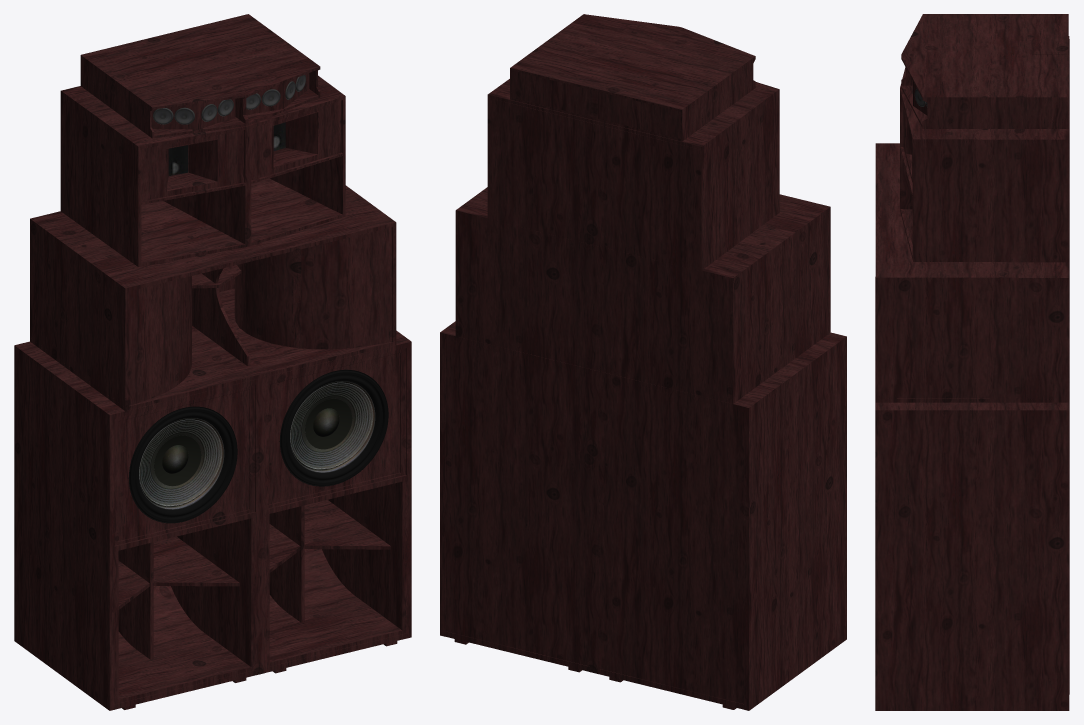
Rendered from soundsystem.obj.
The picture shows the model from 3 angles, left to right: view 1: azimuth 30°, elevation 25°; view 2: azimuth 150°, elevation 25°; view 3: azimuth 270°, elevation 25°; orthographic projection. The views are drawn at different scales.
Parts seen in each view (by area): view 1: model_0, model_5, model_4, model_2, model_1, model_7, model_3, model_6; view 2: model_0; view 3: model_0, model_5.
Part boxes in pixels (<box>): model_0: <box>14,14,411,710</box>; model_5: <box>129,73,391,405</box>; model_4: <box>139,381,375,509</box>; model_2: <box>133,375,382,517</box>; model_1: <box>128,369,388,523</box>; model_7: <box>153,74,305,124</box>; model_3: <box>162,408,339,473</box>; model_6: <box>168,122,285,175</box>; model_0: <box>440,14,846,710</box>; model_0: <box>875,14,1069,710</box>; model_5: <box>900,81,927,244</box>.
Bounding box in the file's own units: 117 × 213 × 64.41.
4 materials, 3 textured.
